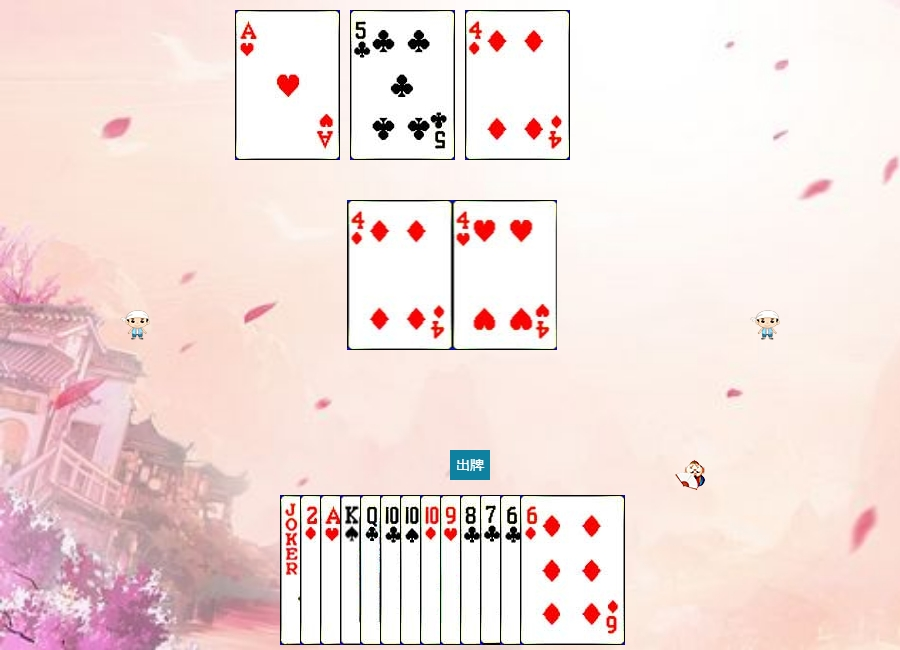10~1: (420, 495, 525, 645)
10~2: (380, 495, 485, 645)
10~4: (400, 495, 505, 645)
12~2: (360, 495, 465, 645)
13~4: (340, 495, 445, 645)
14~3: (235, 10, 340, 160), (320, 495, 425, 645)
15~1: (300, 495, 405, 645)
18~4: (280, 495, 385, 645)
4~1: (465, 10, 570, 160), (348, 200, 453, 350)
4~3: (453, 200, 558, 350)
5~2: (350, 10, 455, 160)
6~1: (520, 495, 625, 645)
6~2: (500, 495, 605, 645)
7~2: (480, 495, 585, 645)
8~2: (460, 495, 565, 645)
9~3: (440, 495, 545, 645)
